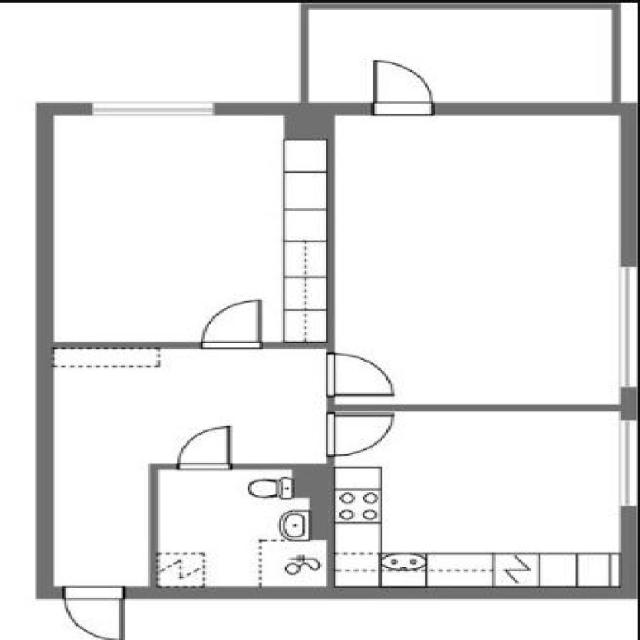door: (361, 57, 443, 118), (189, 293, 271, 352), (319, 347, 405, 396), (56, 582, 128, 640), (322, 409, 399, 458), (168, 422, 237, 474)
window: (605, 263, 640, 393), (83, 95, 223, 125), (606, 412, 640, 512)
zone: (325, 98, 627, 414), (38, 105, 336, 348), (334, 408, 638, 590), (150, 464, 330, 592)
